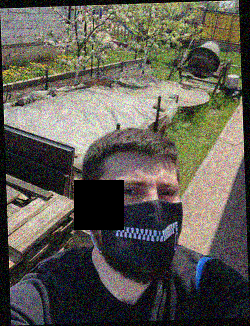with_mask: (99, 167, 184, 285)
